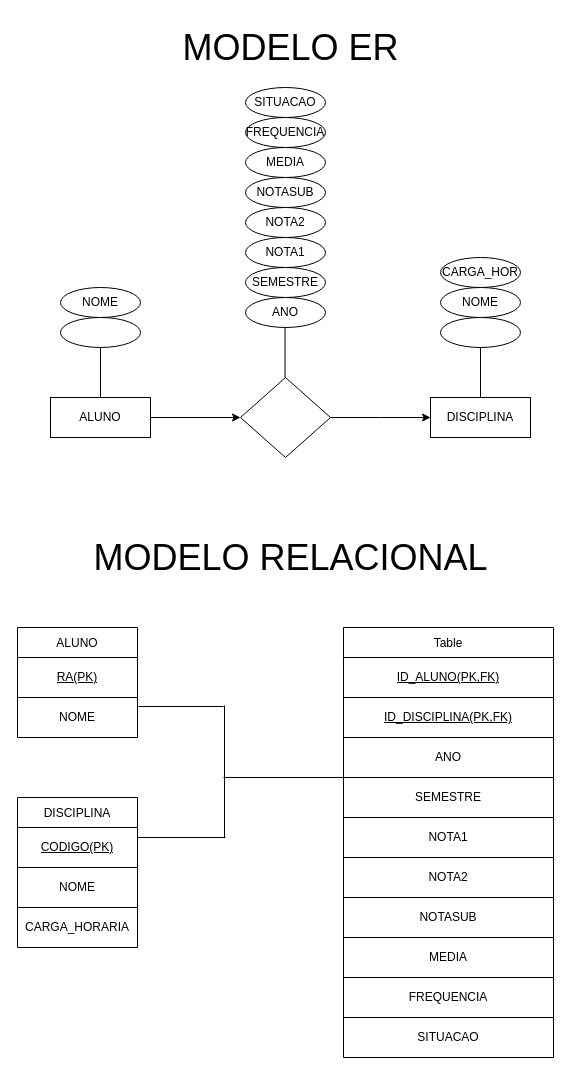
Image size: 571x1075. Some labels were removed from this diagram. The shapes that lost their labels are listed below. From the top down, each one's centre as x and y in pixels, then its label:
point (100, 332): RA
point (480, 332): CODIGO
point (285, 417): MATRICULA
